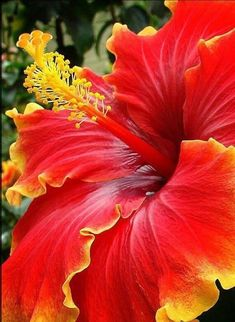Hibiscus: (3, 1, 235, 322)
